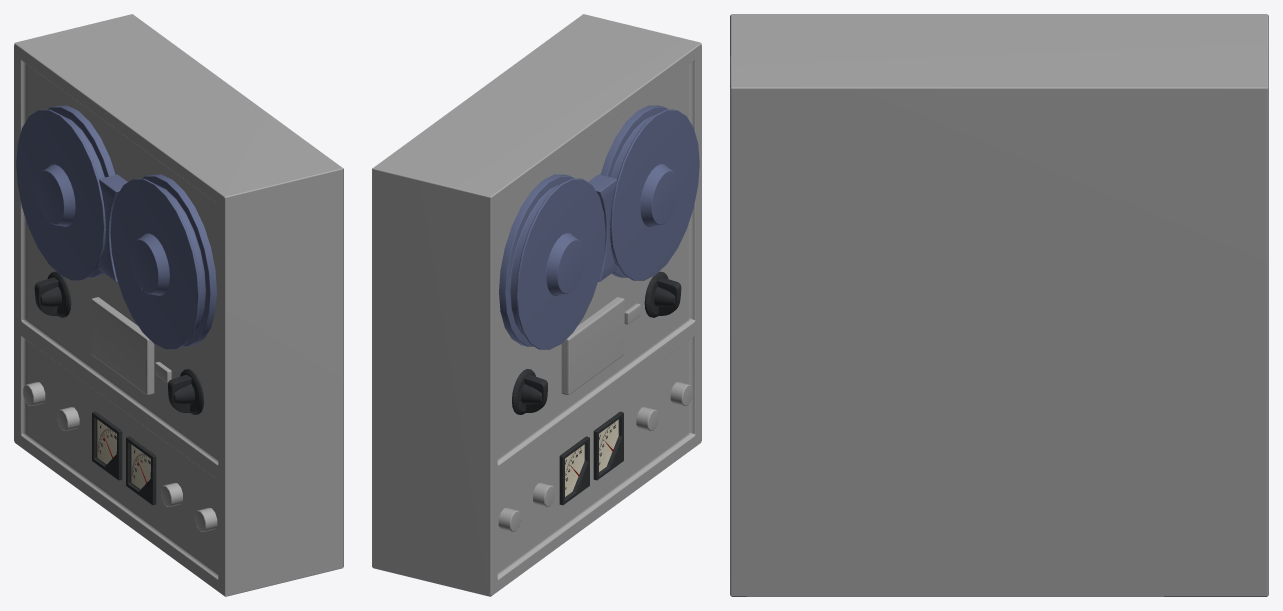
File: TapeRecorder.fbx
3 renders of one model, left to right at view 1: azimuth 30°, elevation 25°; view 2: azimuth 150°, elevation 25°; view 3: azimuth 270°, elevation 25°, orthographic. The views are drawn at different scales.
Visible parts, largest first — view 1: TapeRecorder; view 2: TapeRecorder; view 3: TapeRecorder.
Boxes of the visible parts, <box> form: TapeRecorder: <box>14,14,343,596</box>; TapeRecorder: <box>372,14,701,596</box>; TapeRecorder: <box>730,14,1268,596</box>.
Bounding box in the file's own units: 24.88 × 67.27 × 64.4.
